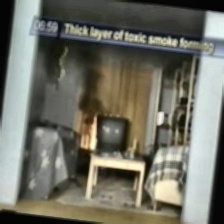fire: (77, 106, 103, 148)
